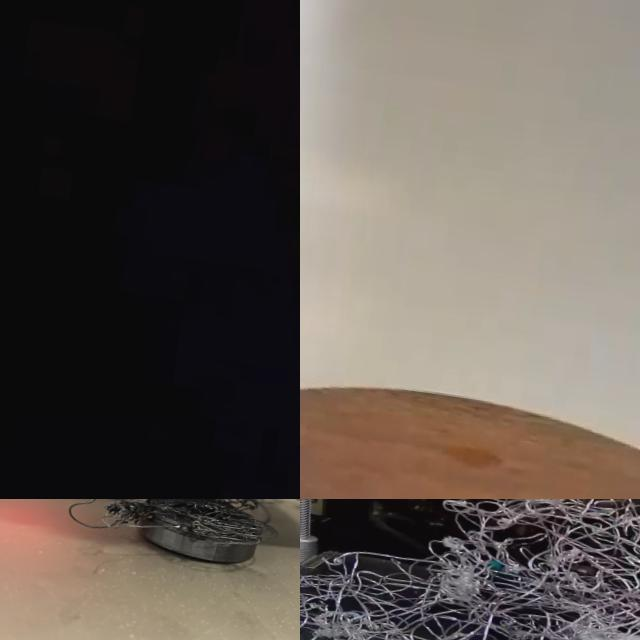spaghetti: (300, 499, 640, 640), (68, 499, 270, 570)
